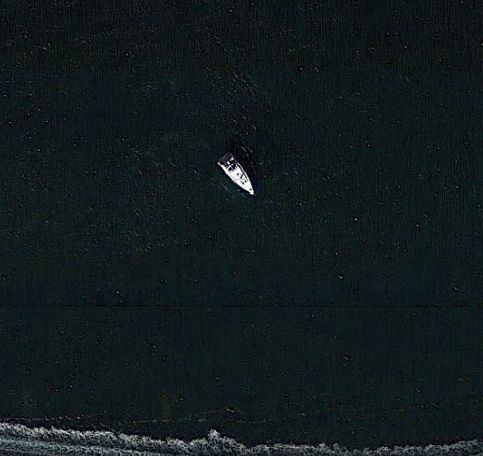boat: (219, 152, 256, 198)
